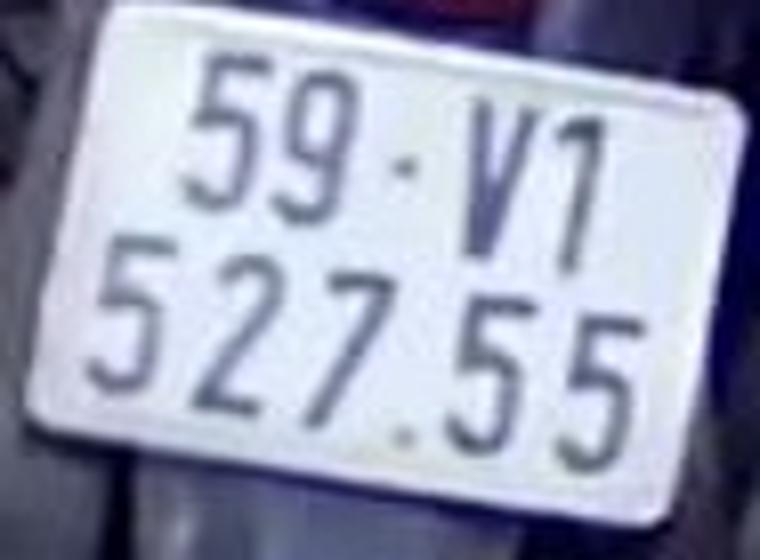-: (389, 155, 417, 173)
.: (391, 426, 415, 446)
1: (555, 114, 603, 271)
2: (196, 257, 284, 417)
5: (551, 307, 641, 474), (87, 230, 170, 394), (447, 295, 531, 456), (183, 54, 265, 208)
7: (305, 270, 393, 426)
9: (276, 73, 355, 223)
V: (453, 101, 535, 251)
